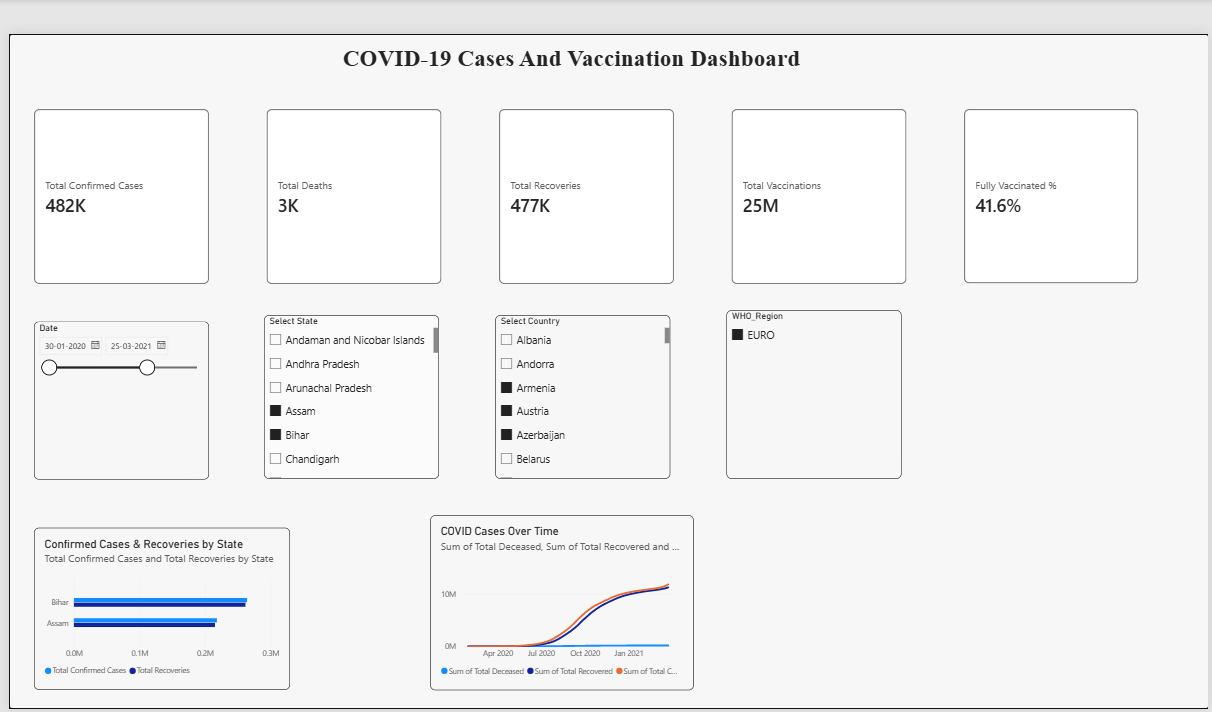

This screenshot's page, from the dashboard's own definition file:
{"tool":"powerbi","page":{"name":"Covid19-Overview","canvas":[1920,1080],"ordinal":0},"visuals":[{"type":"textbox","box":[10,0,280,280],"z":0},{"type":"textbox","box":[533.1,16.5,769.8,51.5],"z":1000},{"type":"cardVisual","fields":{"Data":["India_Cases.Total Confirmed Cases"]},"box":[39.1,119.4,280,280],"z":2000},{"type":"cardVisual","fields":{"Data":["India_Cases.Total Deaths"]},"box":[411.2,119.4,280,280],"z":3000},{"type":"cardVisual","fields":{"Data":["India_Cases.Total Recoveries"]},"box":[783.2,119.4,280,280],"z":4000},{"type":"cardVisual","fields":{"Data":["Vaccination.Total Vaccinations"]},"box":[1155.2,119.4,280,280],"z":5000},{"type":"cardVisual","fields":{"Data":["Vaccination.Fully Vaccinated %"]},"box":[1527.3,119.4,279.9,279.9],"z":6000},{"type":"slicer","fields":{"Values":["Dim_Date.Date"]},"box":[39.1,459,279.9,253.2],"z":7000},{"type":"slicer","fields":{"Values":["India_Cases.State"]},"box":[408.9,450.8,279.9,261.4],"z":8000},{"type":"slicer","fields":{"Values":["Dim_Country.Country"]},"box":[778.7,450.8,279.9,261.4],"z":9000},{"type":"slicer","fields":{"Values":["Dim_Country.WHO_Region"]},"box":[1148.5,442.5,279.9,269.6],"z":10000},{"type":"lineChart","title":"COVID Cases Over Time","fields":{"Category":["Dim_Date.Date"],"Y":["Sum(Case_TimeSeries.Total Deceased)","Sum(Case_TimeSeries.Total Recovered)","Sum(Case_TimeSeries.Total Confirmed)"]},"box":[673.1,769.8,422,279.9],"z":11000},{"type":"clusteredBarChart","title":"Confirmed Cases & Recoveries by State","fields":{"Category":["India_Cases.State"],"Y":["India_Cases.Total Confirmed Cases","India_Cases.Total Recoveries"]},"box":[39.1,790.4,409.6,259.3],"z":12000}]}

Visuals, with their boxes on the page's 1920x1080 design canvas (x1, y1, x2, y2). These are canvas units, not pixel positions in the 1212x712 screenshot, which may show the page scaled, cropped or inside an application window:
textbox: l=10, t=0, r=290, b=280
textbox: l=533, t=16, r=1303, b=68
cardVisual - India_Cases.Total Confirmed Cases: l=39, t=119, r=319, b=399
cardVisual - India_Cases.Total Deaths: l=411, t=119, r=691, b=399
cardVisual - India_Cases.Total Recoveries: l=783, t=119, r=1063, b=399
cardVisual - Vaccination.Total Vaccinations: l=1155, t=119, r=1435, b=399
cardVisual - Vaccination.Fully Vaccinated %: l=1527, t=119, r=1807, b=399
slicer - Dim_Date.Date: l=39, t=459, r=319, b=712
slicer - India_Cases.State: l=409, t=451, r=689, b=712
slicer - Dim_Country.Country: l=779, t=451, r=1059, b=712
slicer - Dim_Country.WHO_Region: l=1148, t=442, r=1428, b=712
"COVID Cases Over Time" lineChart: l=673, t=770, r=1095, b=1050
"Confirmed Cases & Recoveries by State" clusteredBarChart: l=39, t=790, r=449, b=1050
